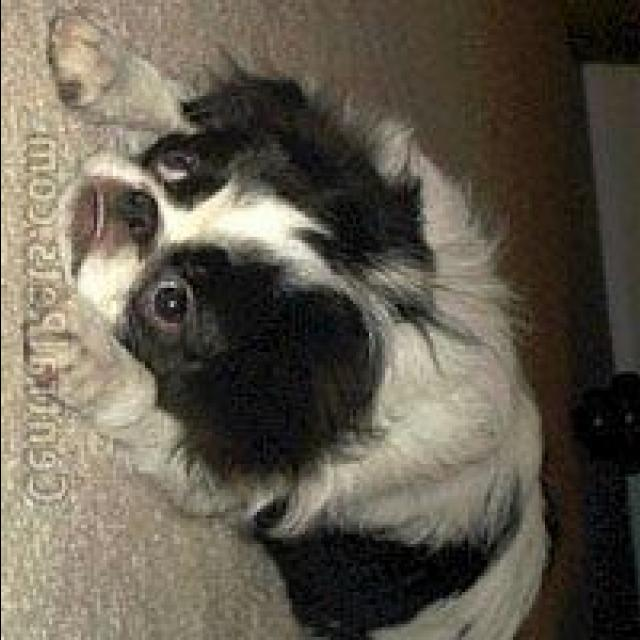husky: (22, 3, 548, 640)
